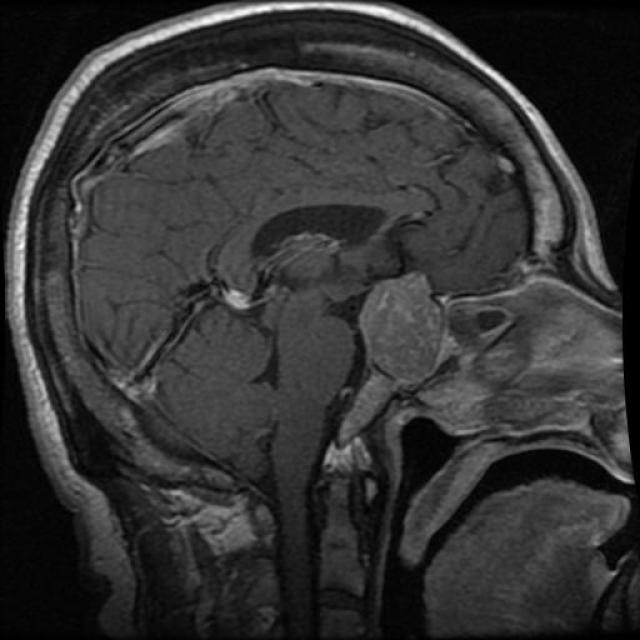pituitary: (348, 270, 458, 400)
